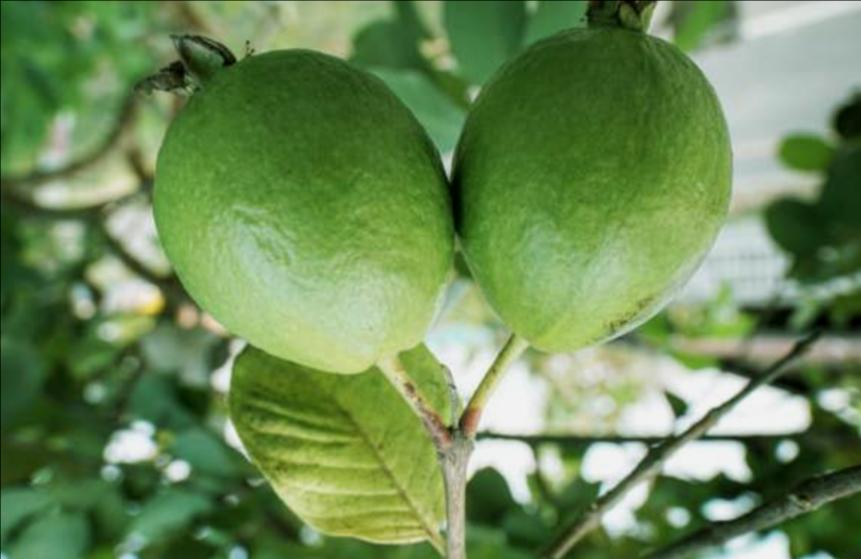oi: (150, 31, 450, 380), (457, 0, 728, 359)
